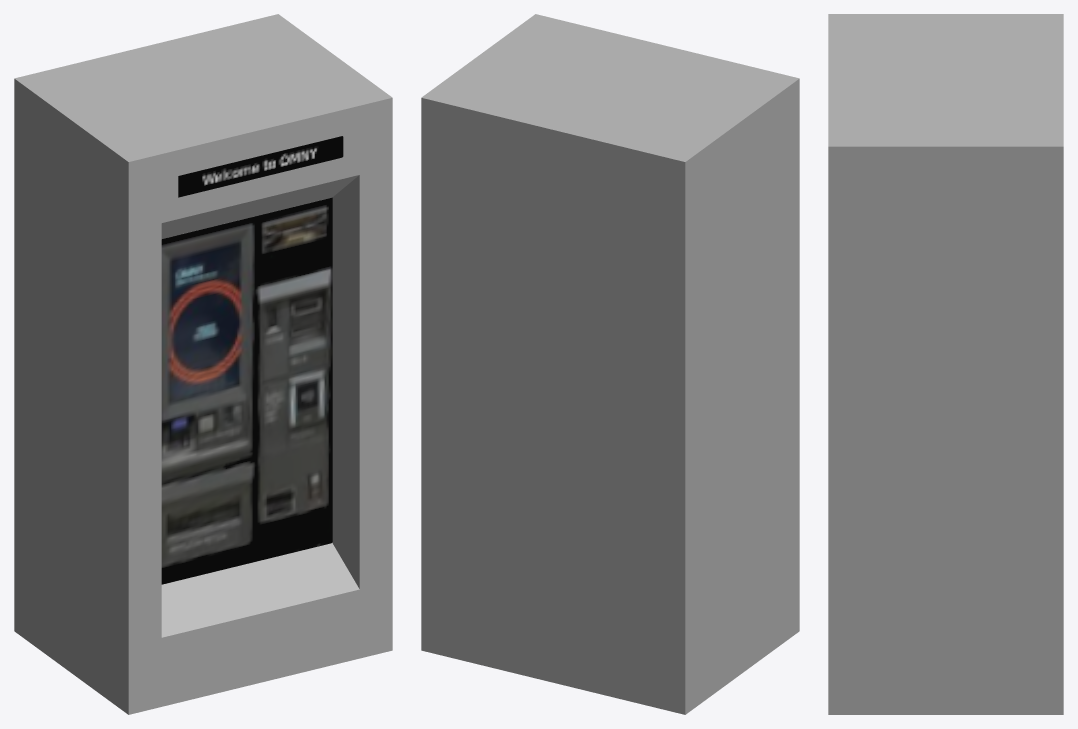
Rendered from nyc_subway_ticket_machine_2.obj.
3 views of the same model, side by side, from view 1: azimuth 30°, elevation 25°; view 2: azimuth 150°, elevation 25°; view 3: azimuth 270°, elevation 25° (orthographic). The views are drawn at different scales.
Visible parts, largest first — view 1: cube; view 2: cube; view 3: cube.
Part boxes in pixels (x1,y1,x2,y2): cube: (14, 14, 392, 714); cube: (421, 14, 799, 714); cube: (828, 14, 1063, 714).
Size of the model in its own units: 1 by 2 by 0.7506.
2 materials, 2 textured.
